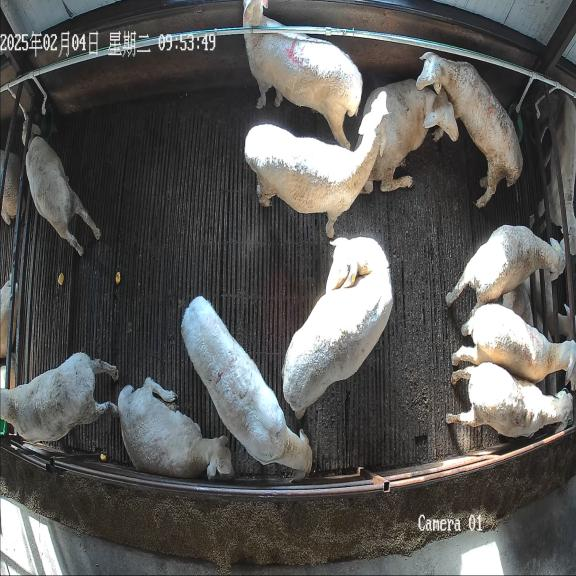drinking: (22, 116, 100, 255)
lying: (118, 378, 234, 478), (363, 79, 458, 193), (503, 278, 532, 325)
stand: (181, 296, 312, 480), (245, 90, 388, 237), (282, 236, 393, 418), (243, 0, 363, 148), (416, 52, 523, 208), (452, 303, 576, 388), (0, 352, 118, 441), (446, 225, 565, 306), (446, 362, 573, 437)
